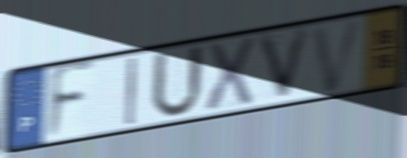F: (44, 58, 98, 146)
I: (124, 55, 139, 128)
U: (148, 43, 206, 122)
V: (254, 22, 315, 106), (309, 15, 368, 96)
X: (203, 35, 257, 116)
